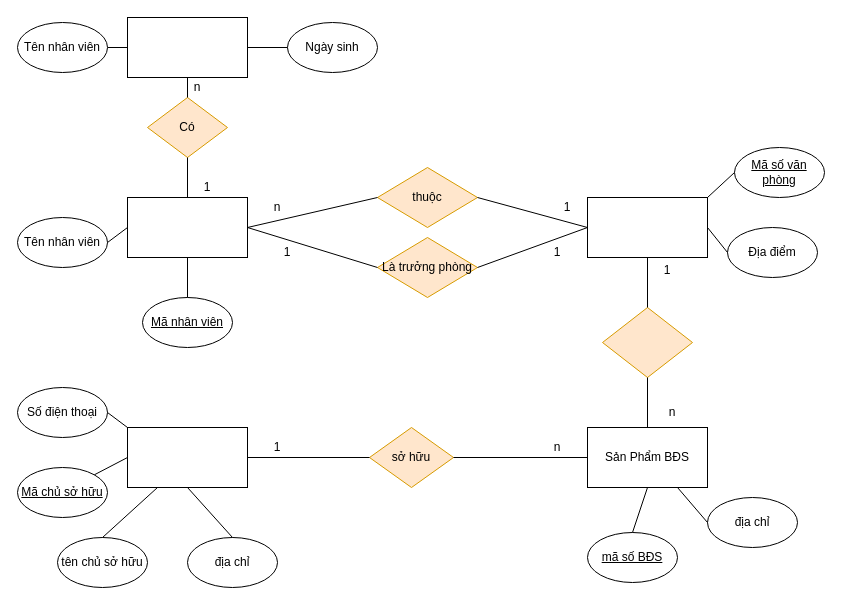
Image size: 842x605. Some labels were removed from this diagram. Each missing label, with the centre of its shape:
"Chủ sở hữu" belongs at (187,457).
"Nhân Viên" belongs at (187,227).
"Rao Bán" belongs at (647,342).
"Thân Nhân" belongs at (187,47).
"Văn Phòng" belongs at (647,227).
